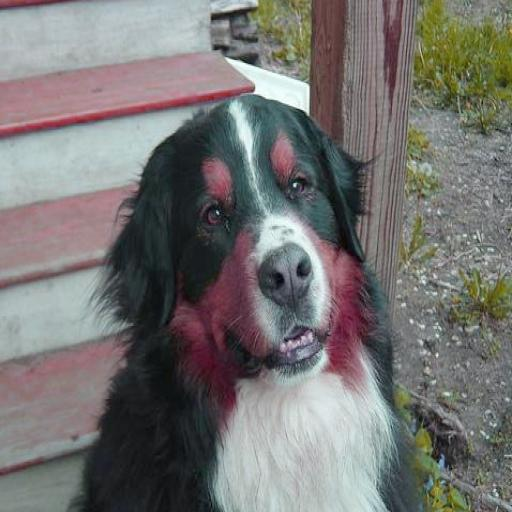dog_face: (112, 106, 373, 377)
